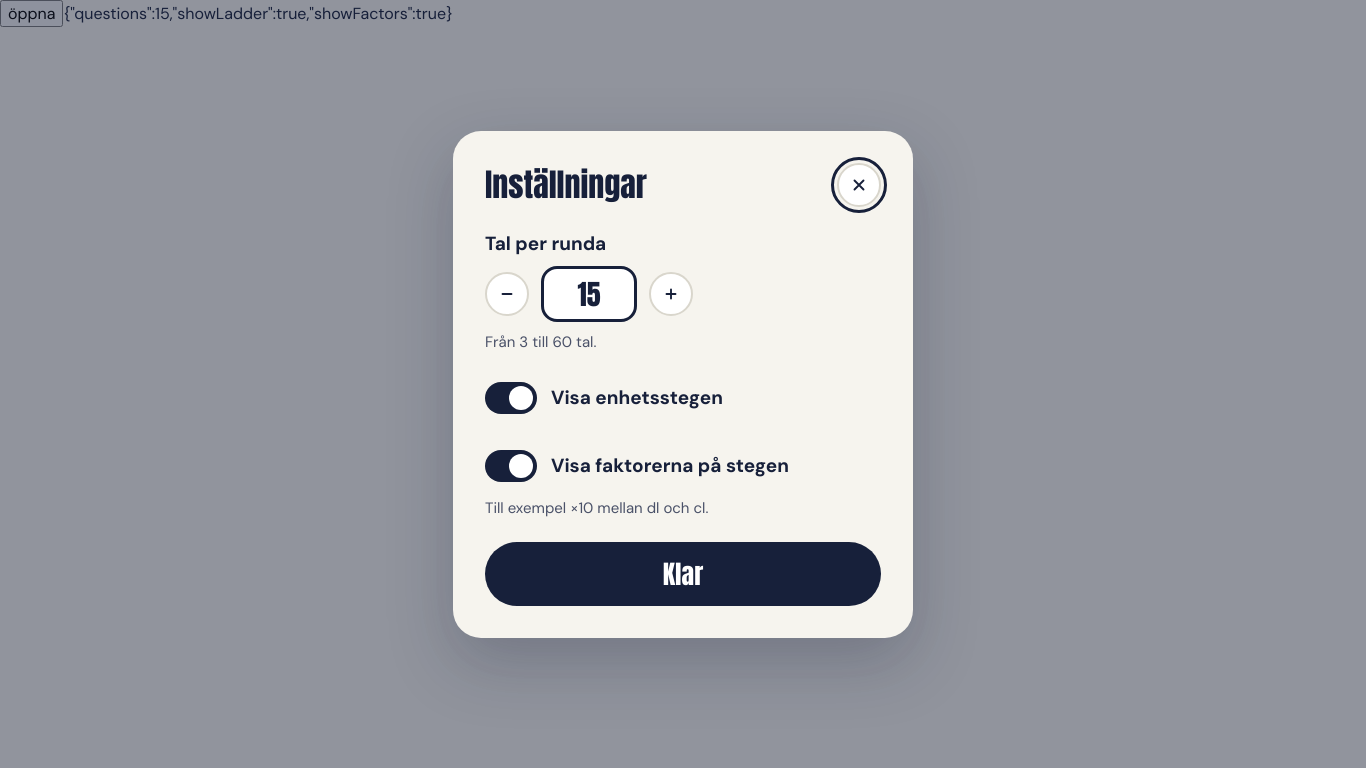
SettingsDialog › clamps a typed count on blur
Replace the text in the field labelled "Tal per runda" with "99" at (589, 294), box [541,266,637,322]
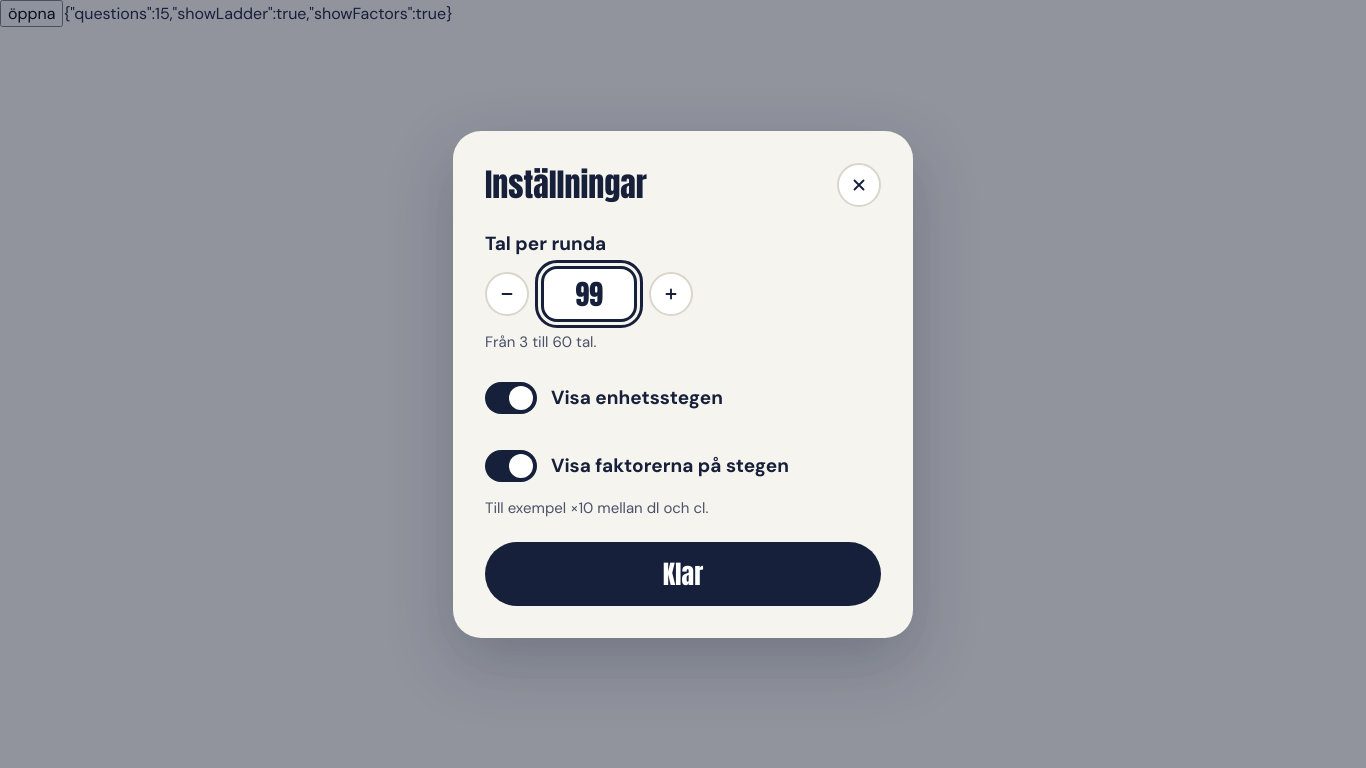
Press Tab
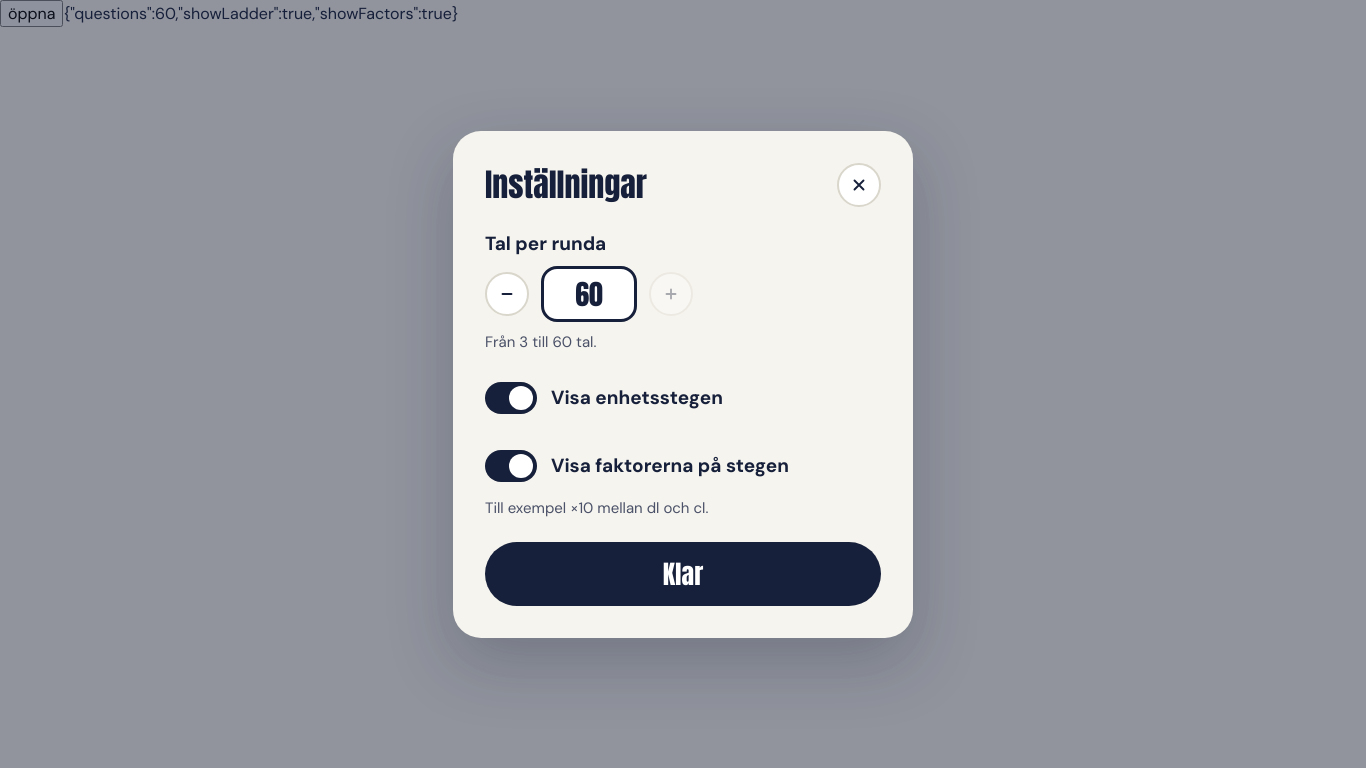
Check: the field labelled "Tal per runda" holds "60", box [541,266,637,322]
